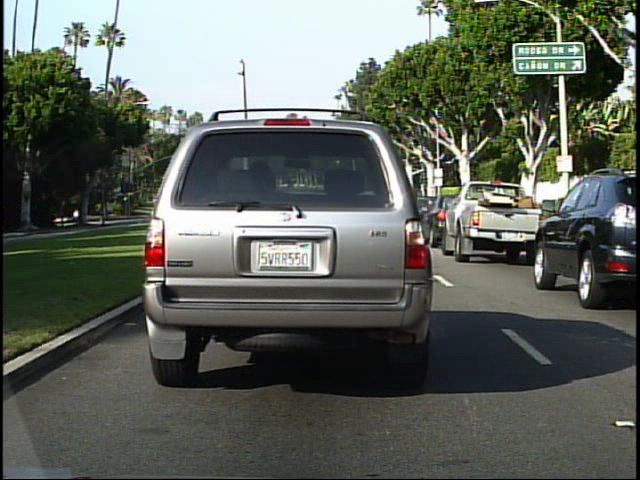person: (72, 206, 82, 227)
